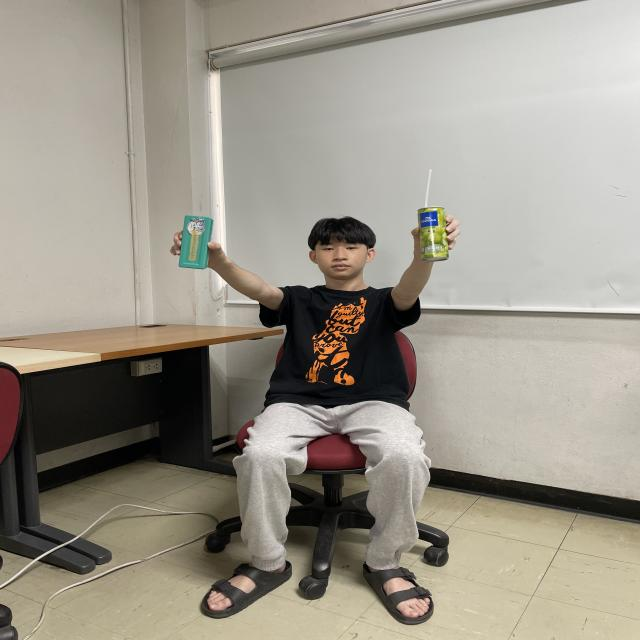can: (417, 207, 449, 262)
